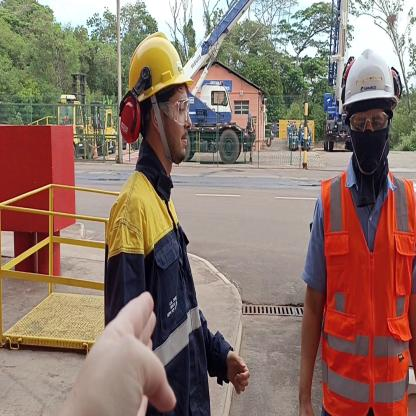Balaclava: (340, 99, 402, 189)
C_eletrica: (110, 180, 225, 416)
Capacete: (125, 28, 197, 93), (335, 44, 403, 101)
colete: (325, 181, 411, 416)
